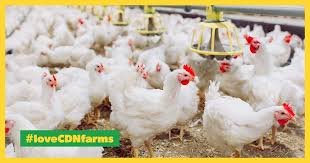Healthy: (200, 79, 299, 152)
